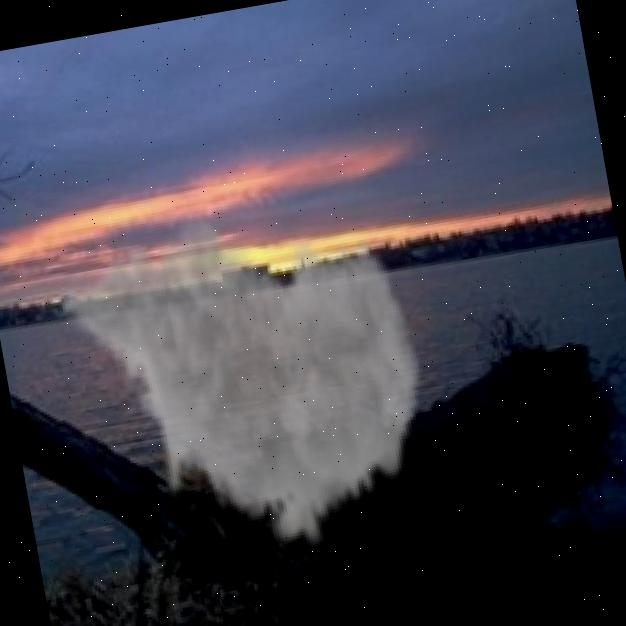smoke: (43, 174, 452, 589)
